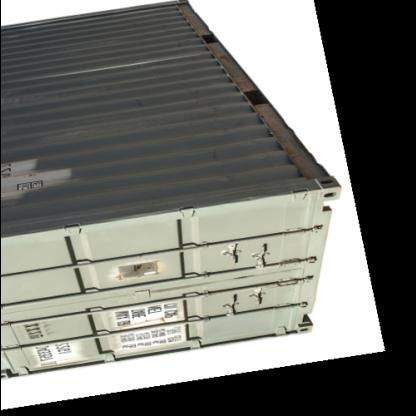Damage: (246, 96, 310, 164), (209, 36, 250, 100)
